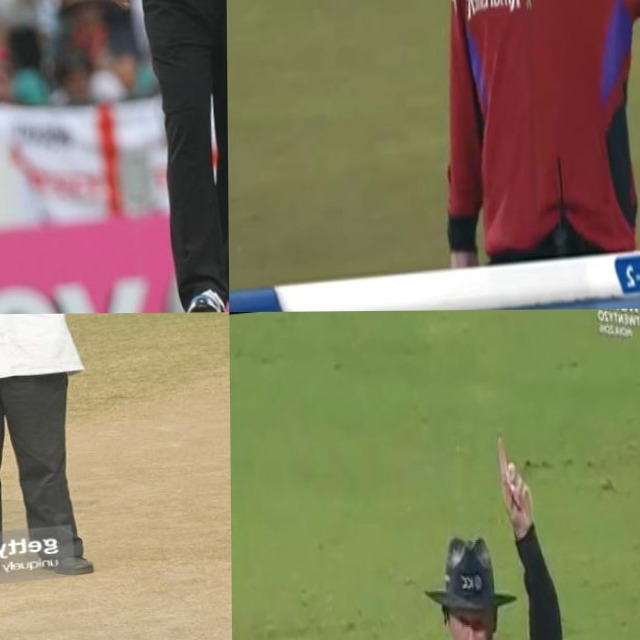No_Ball: (371, 0, 640, 272), (44, 0, 229, 314)
Out: (356, 417, 587, 640)
Six: (0, 313, 177, 595)
